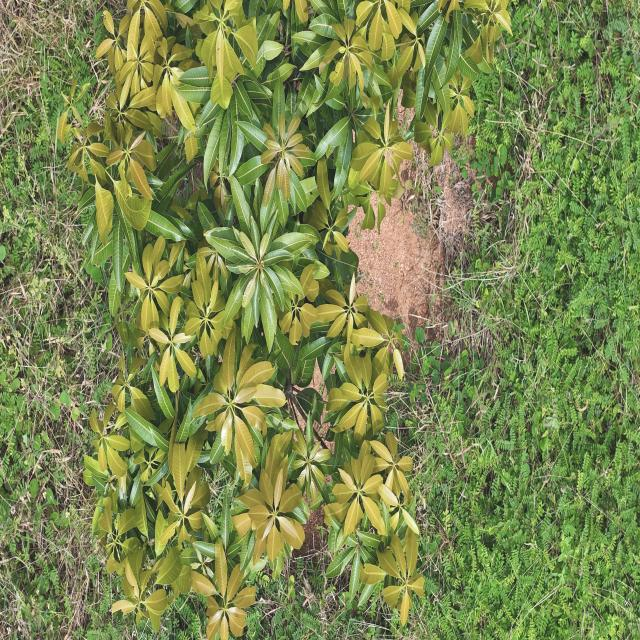mangoTree: (50, 0, 515, 640)
